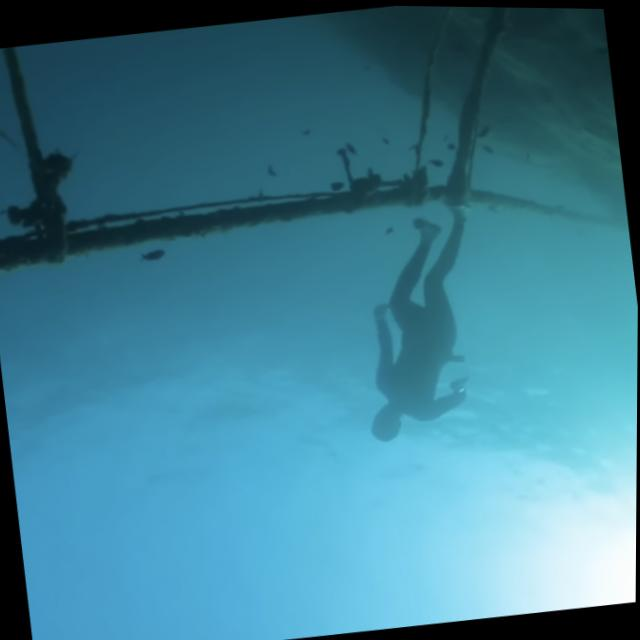human: (338, 189, 508, 446)
